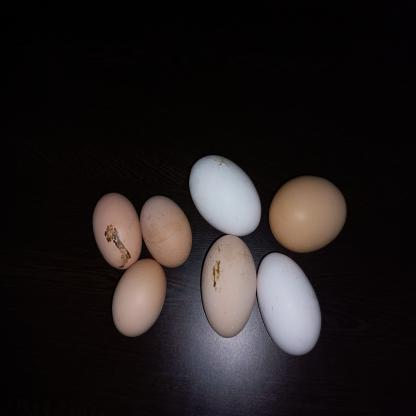egg: (256, 252, 322, 357), (268, 174, 349, 254), (188, 154, 262, 238), (200, 235, 258, 338), (110, 259, 166, 339), (90, 191, 142, 272), (139, 195, 194, 270)
